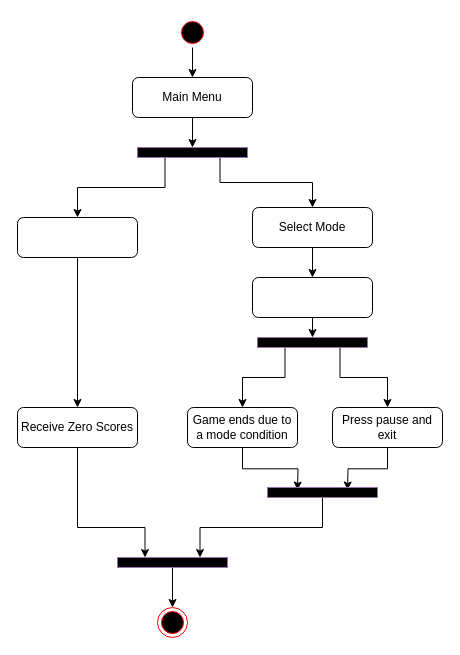
Some shapes in this 460 by 655 pixel diagram are drawn without their labels. The centre of each missing label's shape, as x and y in pixels:
"Play" belongs at [312,297].
"Update Scores" belongs at [77,237].
